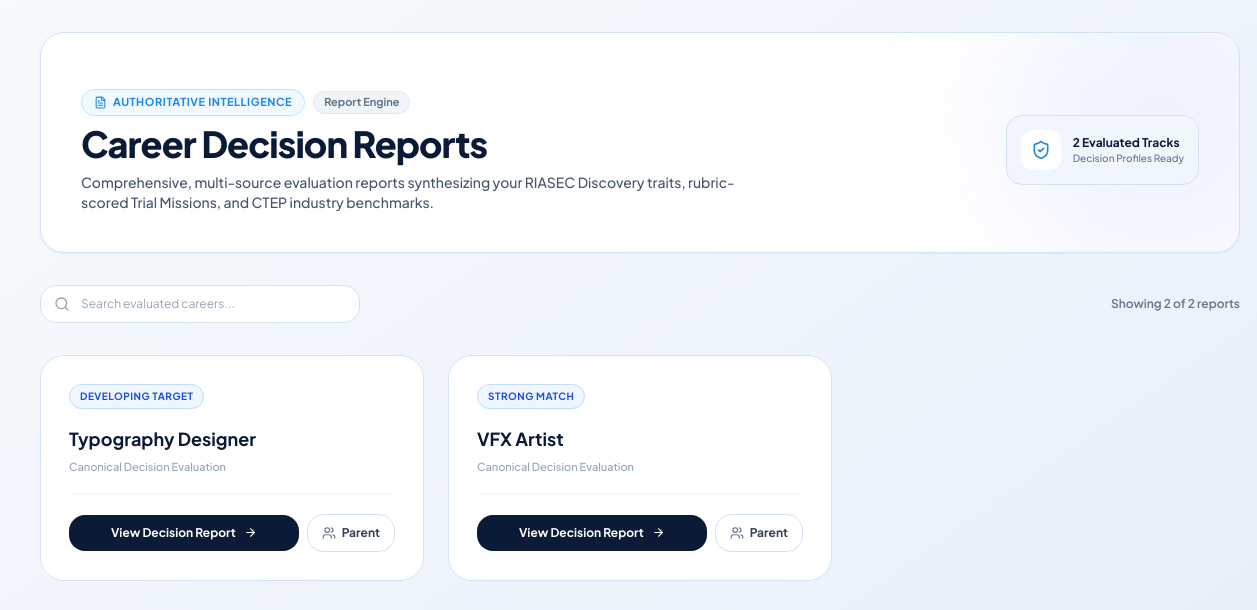
Test: ReportsHub — Report Engine Hub › 6. filters reports dynamically when searching
Expected: the heading "Typography Designer" is shown, left=69, top=426, right=256, bottom=450
Expected: the heading "VFX Artist" is shown, left=477, top=426, right=564, bottom=450
Step 1. Type "Typography" into the field with test id "reports-hub-search-input" → (200, 304), box left=40, top=284, right=360, bottom=322
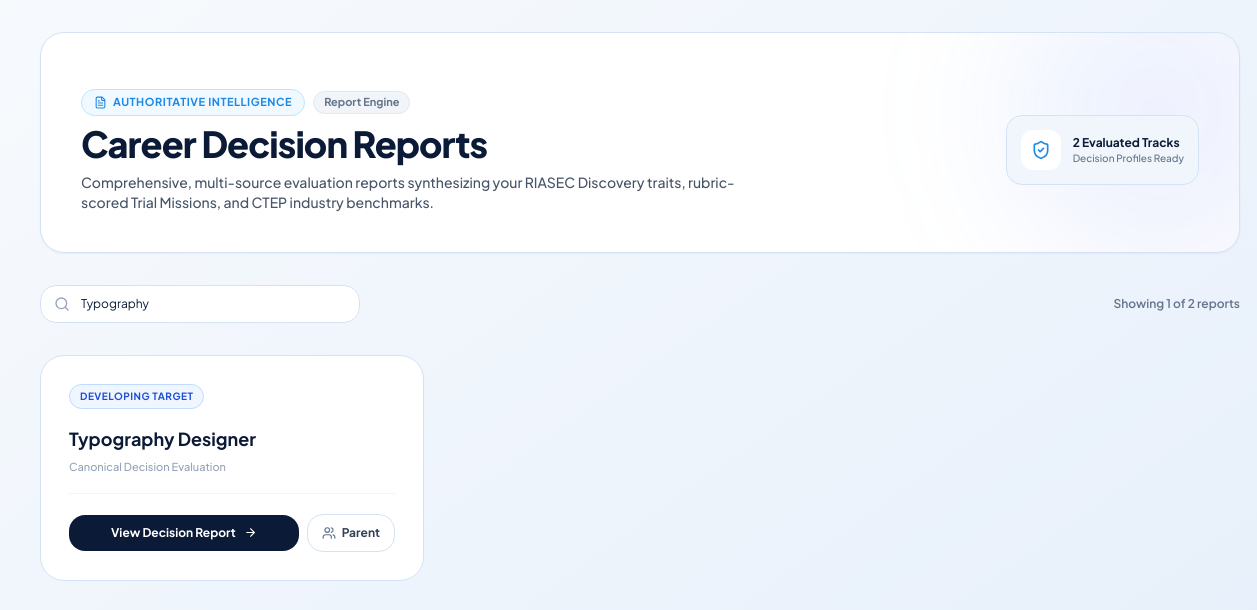
Expected: the heading "Typography Designer" is shown, left=69, top=426, right=256, bottom=450
Now the heading "VFX Artist" is gone
